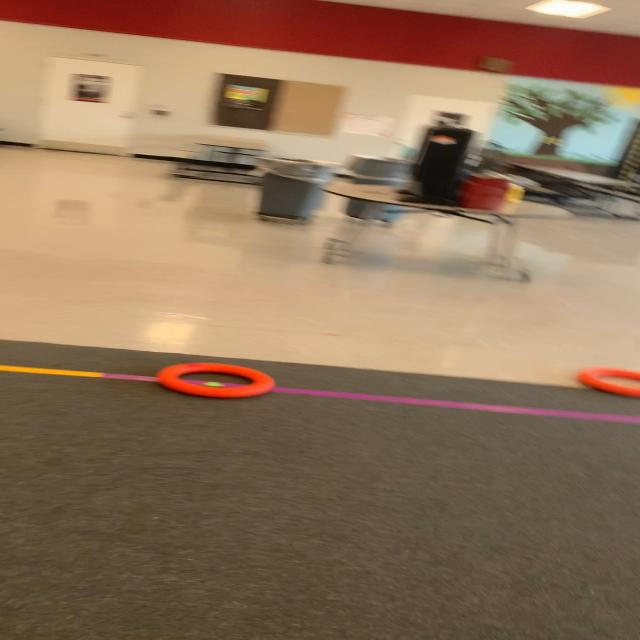notes: (160, 362, 280, 398), (576, 365, 640, 396)
